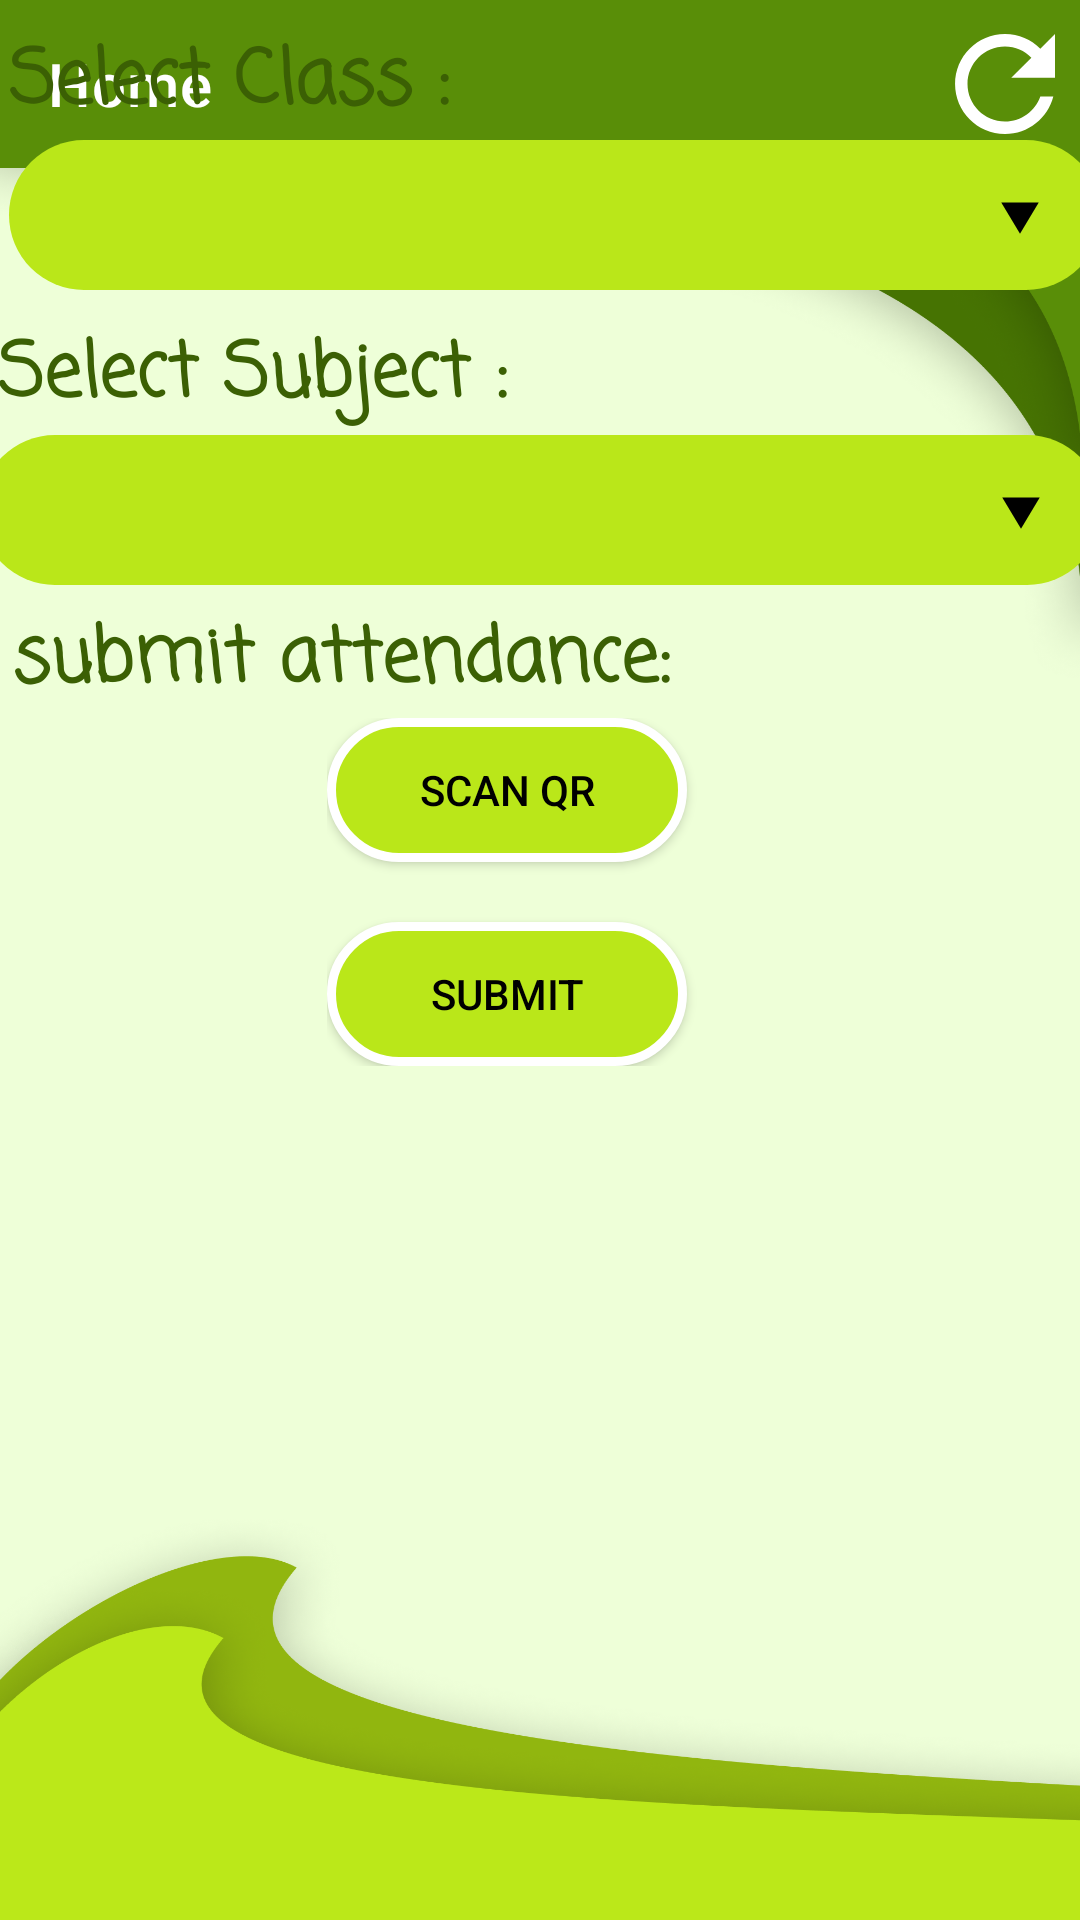

Where to tap for icons on this 1080x1920 app screen, as (x,y):
refresh: (1005,84)
